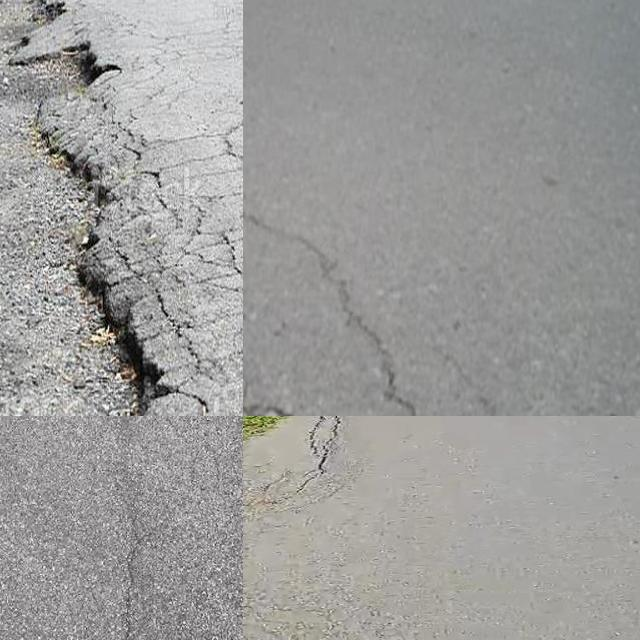Memanjang: (93, 416, 150, 640)
Pinggir: (0, 0, 243, 416), (243, 416, 365, 510)
